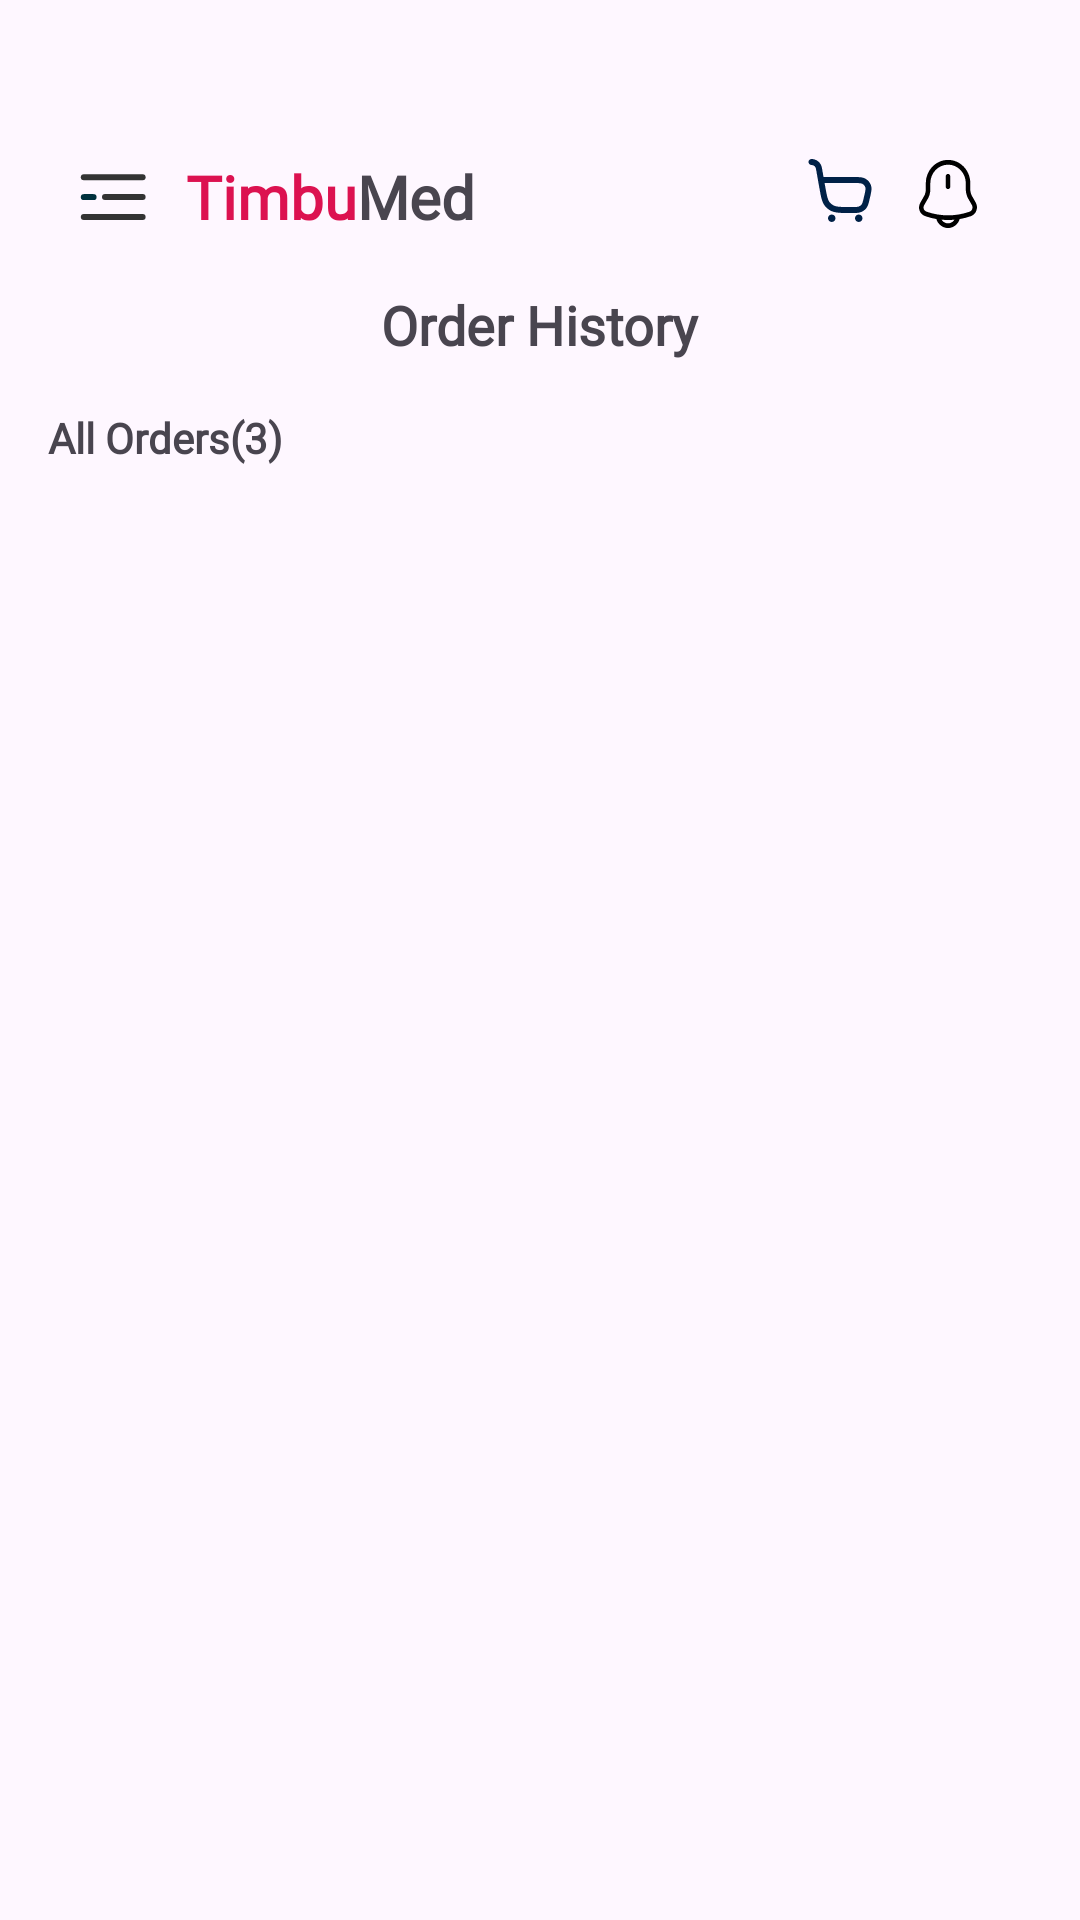

Icons on this 1080x1920 Android screen, each with the point to tap as point (x, y):
menu: point (113, 197)
notification bing: point (948, 194)
